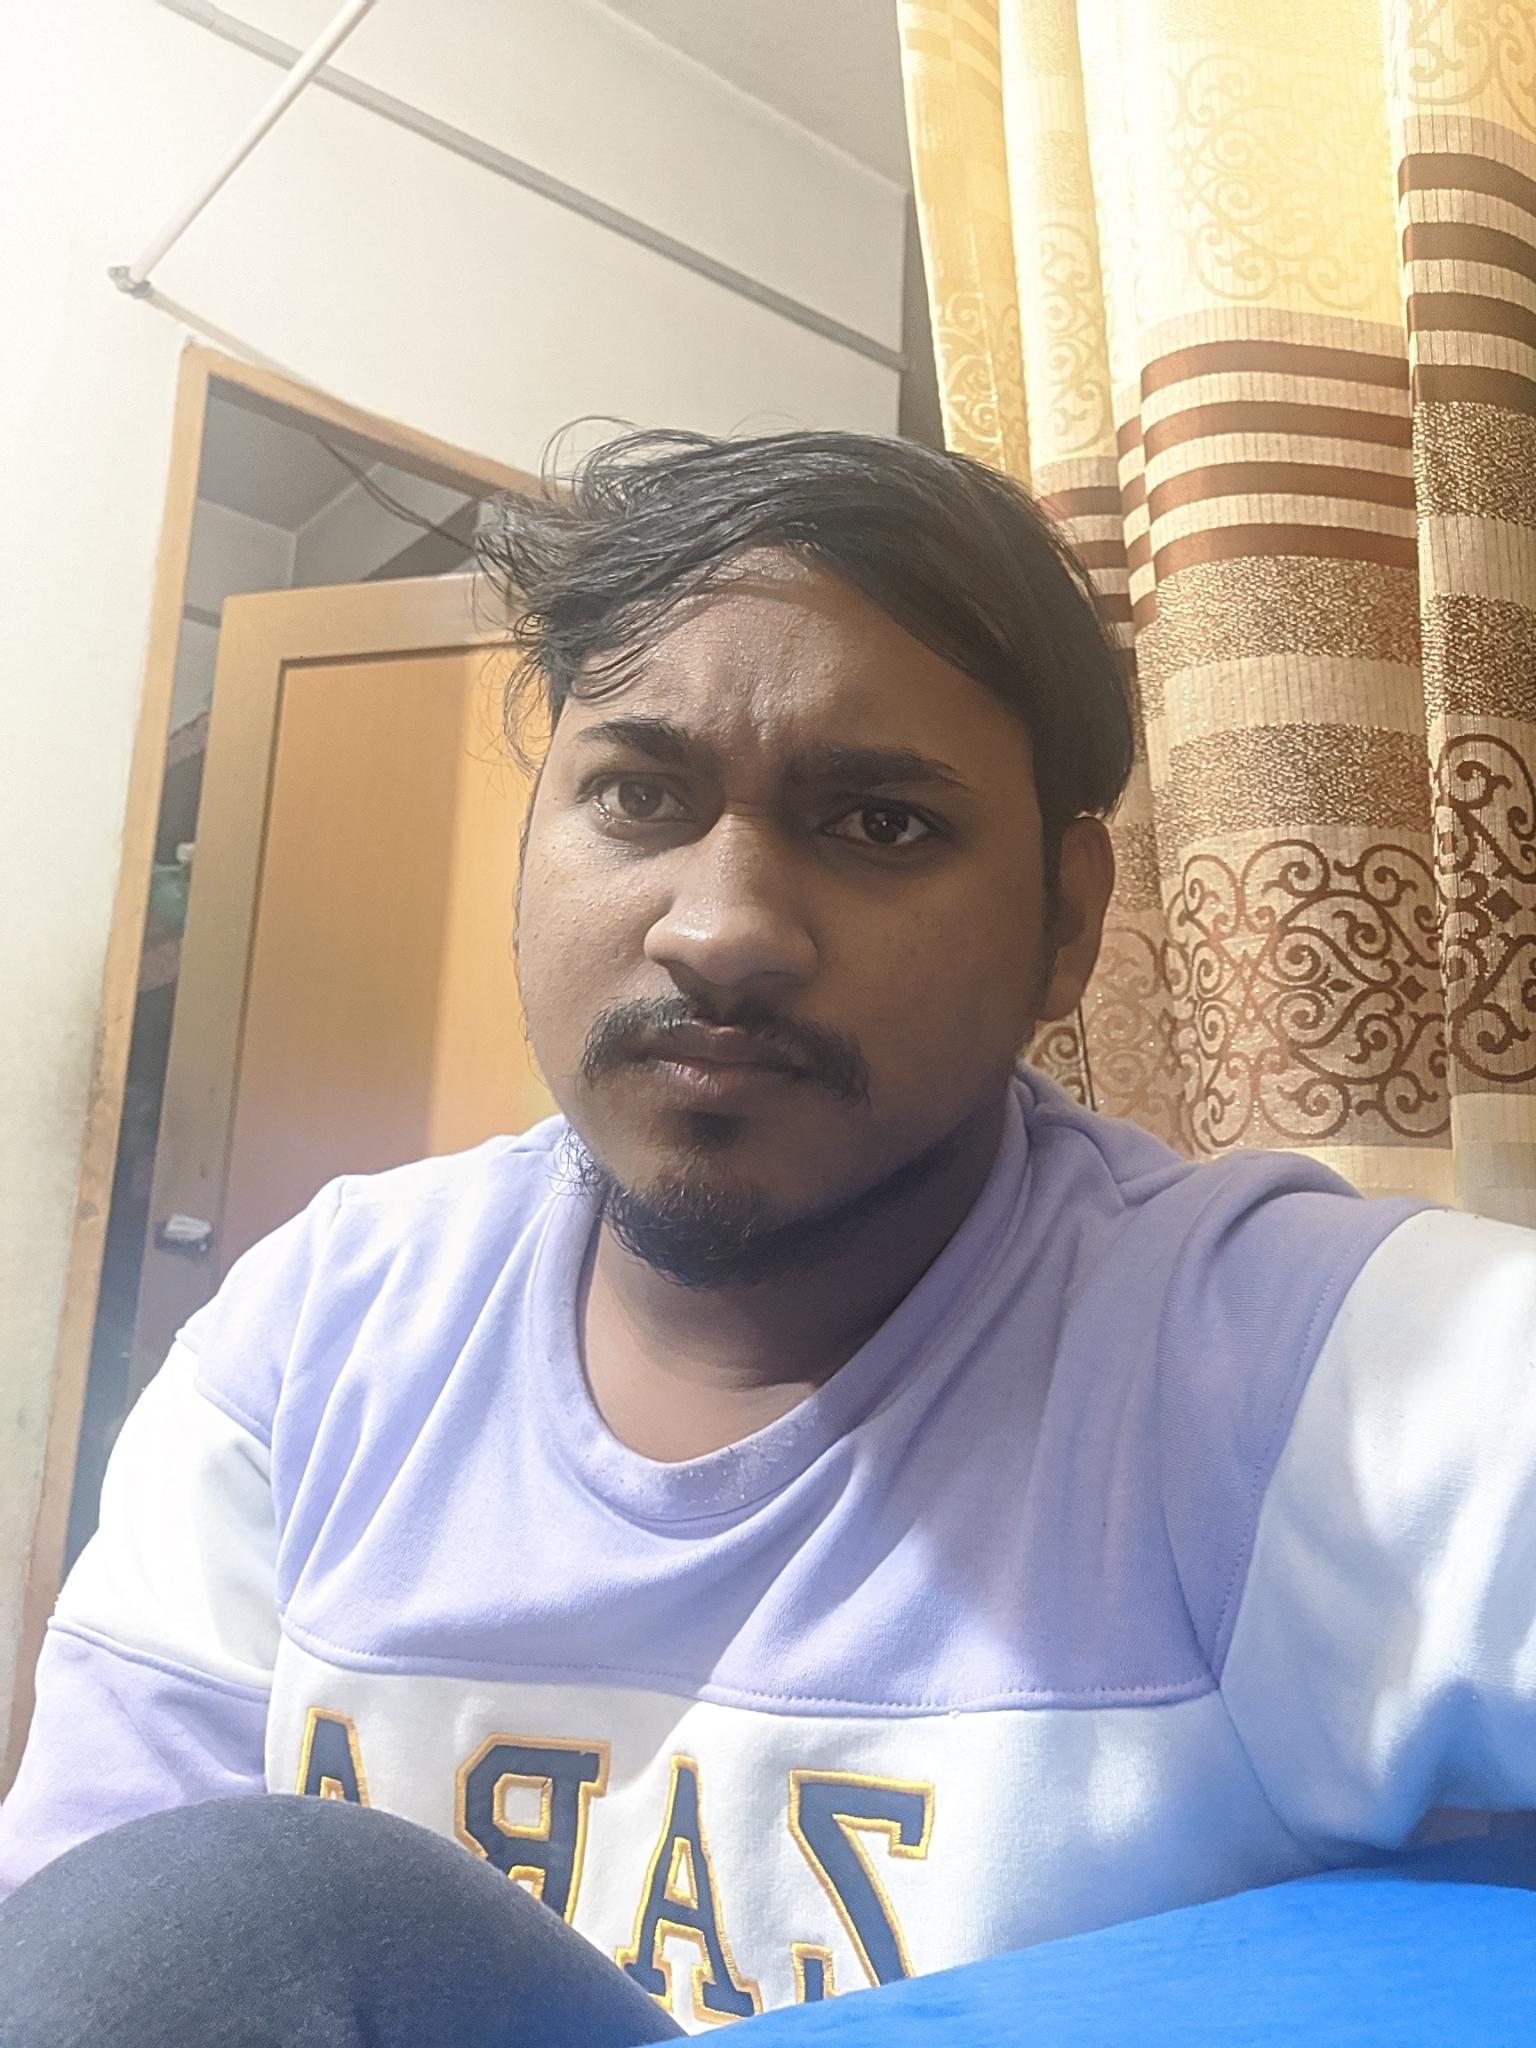Angry: (516, 587, 1037, 1269)
